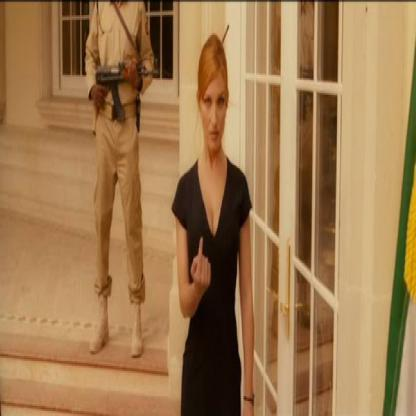Gun: (92, 57, 156, 119)
